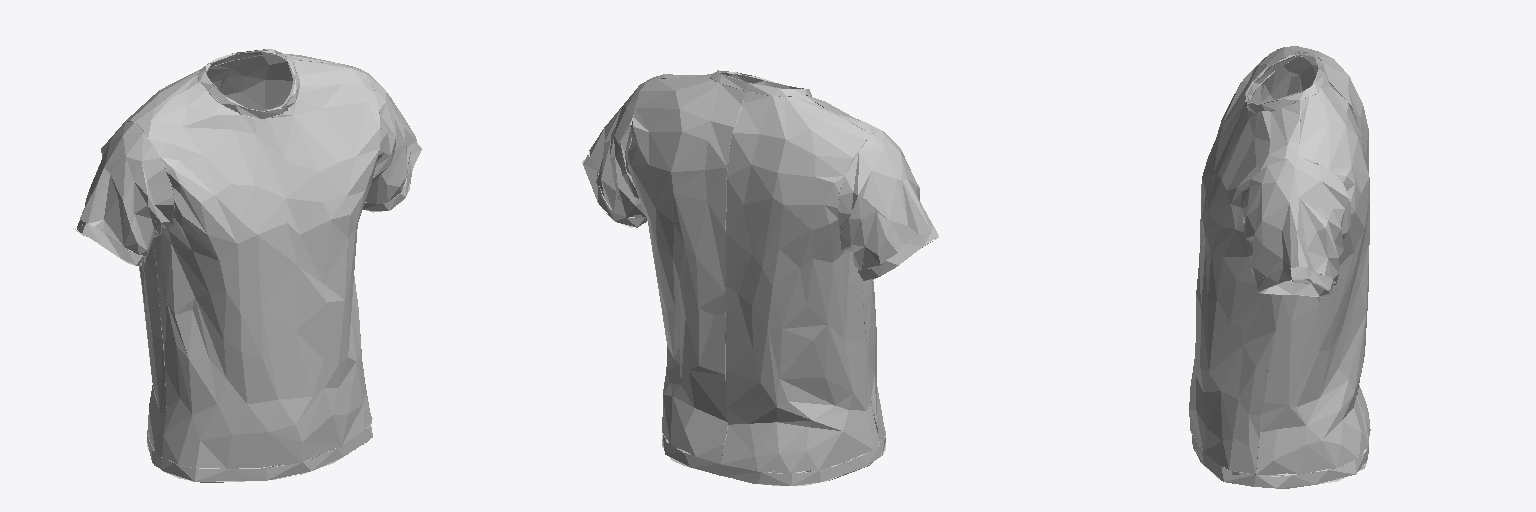
Rendered from tshirt_scaled_decimate_1by128.obj.
The picture shows the model from 3 angles: view 1: azimuth 30°, elevation 25°; view 2: azimuth 150°, elevation 25°; view 3: azimuth 270°, elevation 25°; orthographic projection.
Visible parts, largest first — view 1: t-shirt.002; view 2: t-shirt.002; view 3: t-shirt.002.
Boxes of the visible parts, x1=… form: t-shirt.002: x1=73, y1=49, x2=421, y2=482; t-shirt.002: x1=582, y1=70, x2=938, y2=485; t-shirt.002: x1=1189, y1=46, x2=1370, y2=488.
Size of the model in its own units: 0.7431 by 0.7686 by 0.3357.